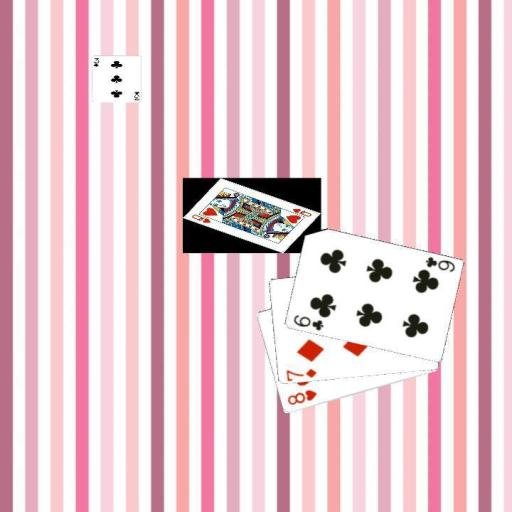card-corner: (284, 387, 318, 407), (290, 312, 324, 332), (422, 254, 456, 274), (283, 366, 318, 381)
